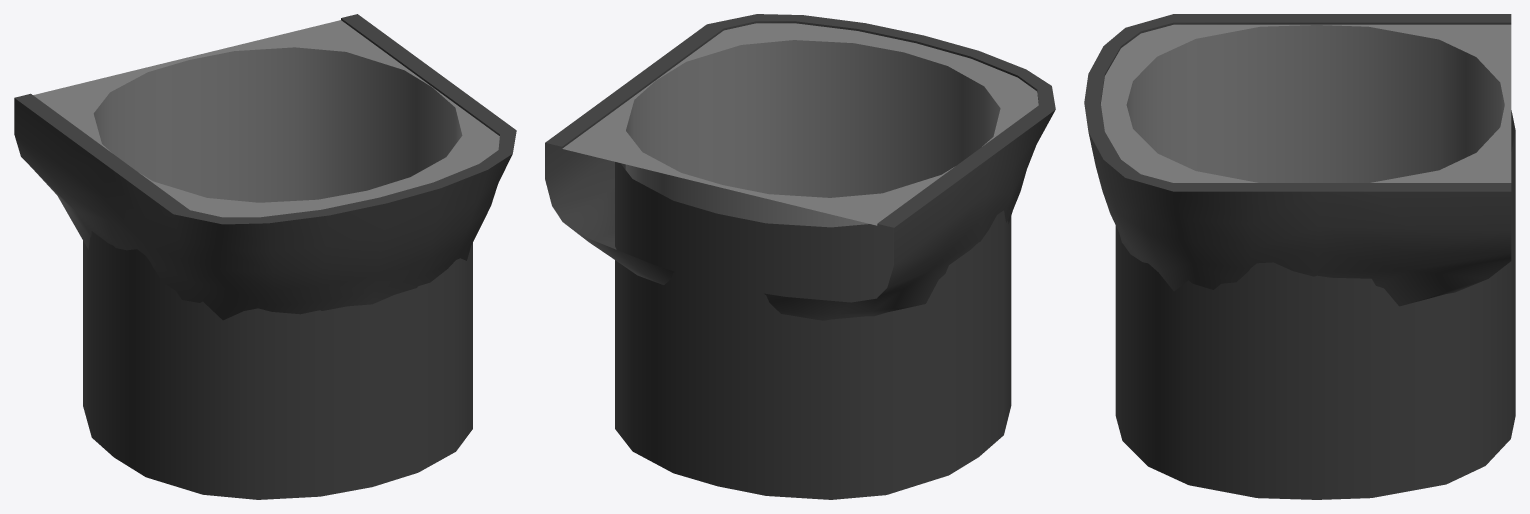
File: Japan_Road_Tunnel_Entrance.FBX
3 renders of one model, left to right at view 1: azimuth 30°, elevation 25°; view 2: azimuth 150°, elevation 25°; view 3: azimuth 270°, elevation 25°, orthographic. The views are drawn at different scales.
Visible parts, largest first — view 1: Object007; view 2: Object007; view 3: Object007.
Part boxes in pixels (x1,y1,x2,y2): Object007: [14, 14, 516, 499]; Object007: [545, 14, 1055, 499]; Object007: [1084, 14, 1515, 499].
Size of the model in its own units: 564 by 462 by 577.
